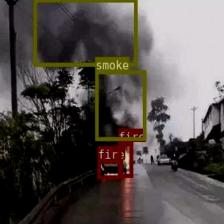fire: (118, 142, 132, 177), (97, 160, 122, 178)
smoke: (32, 0, 136, 66), (94, 70, 146, 140)
